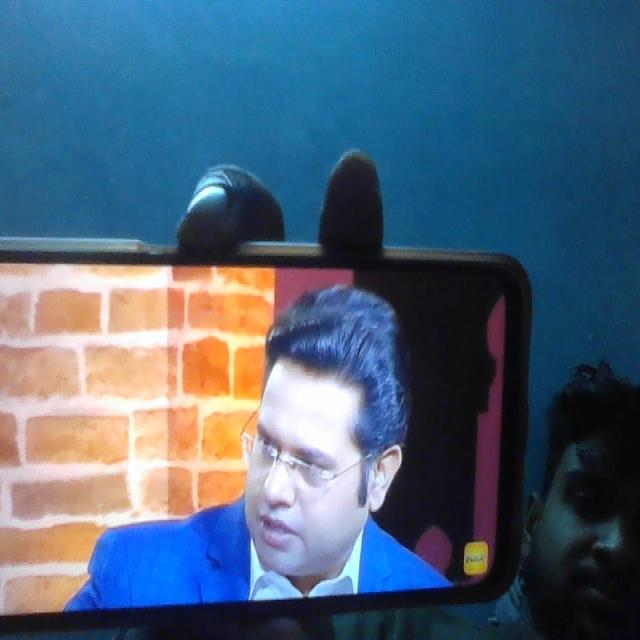fake: (235, 314, 383, 594)
